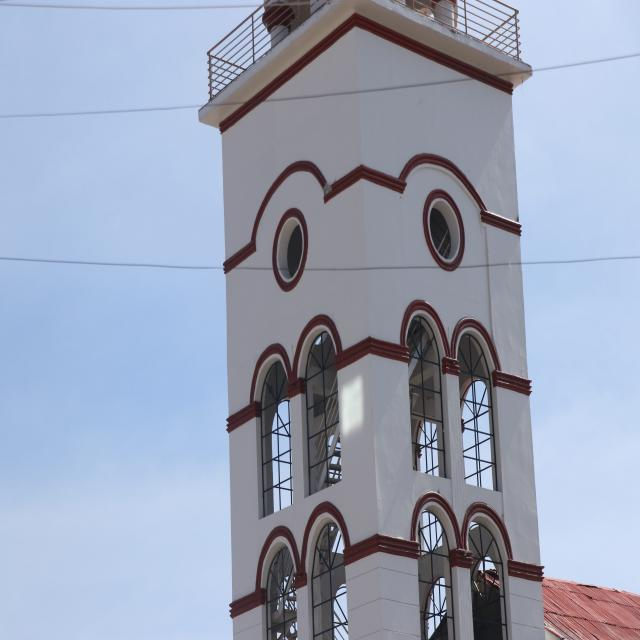CAMPANARIO: (190, 44, 553, 634)
colonial-architecture-: (160, 0, 569, 640)
